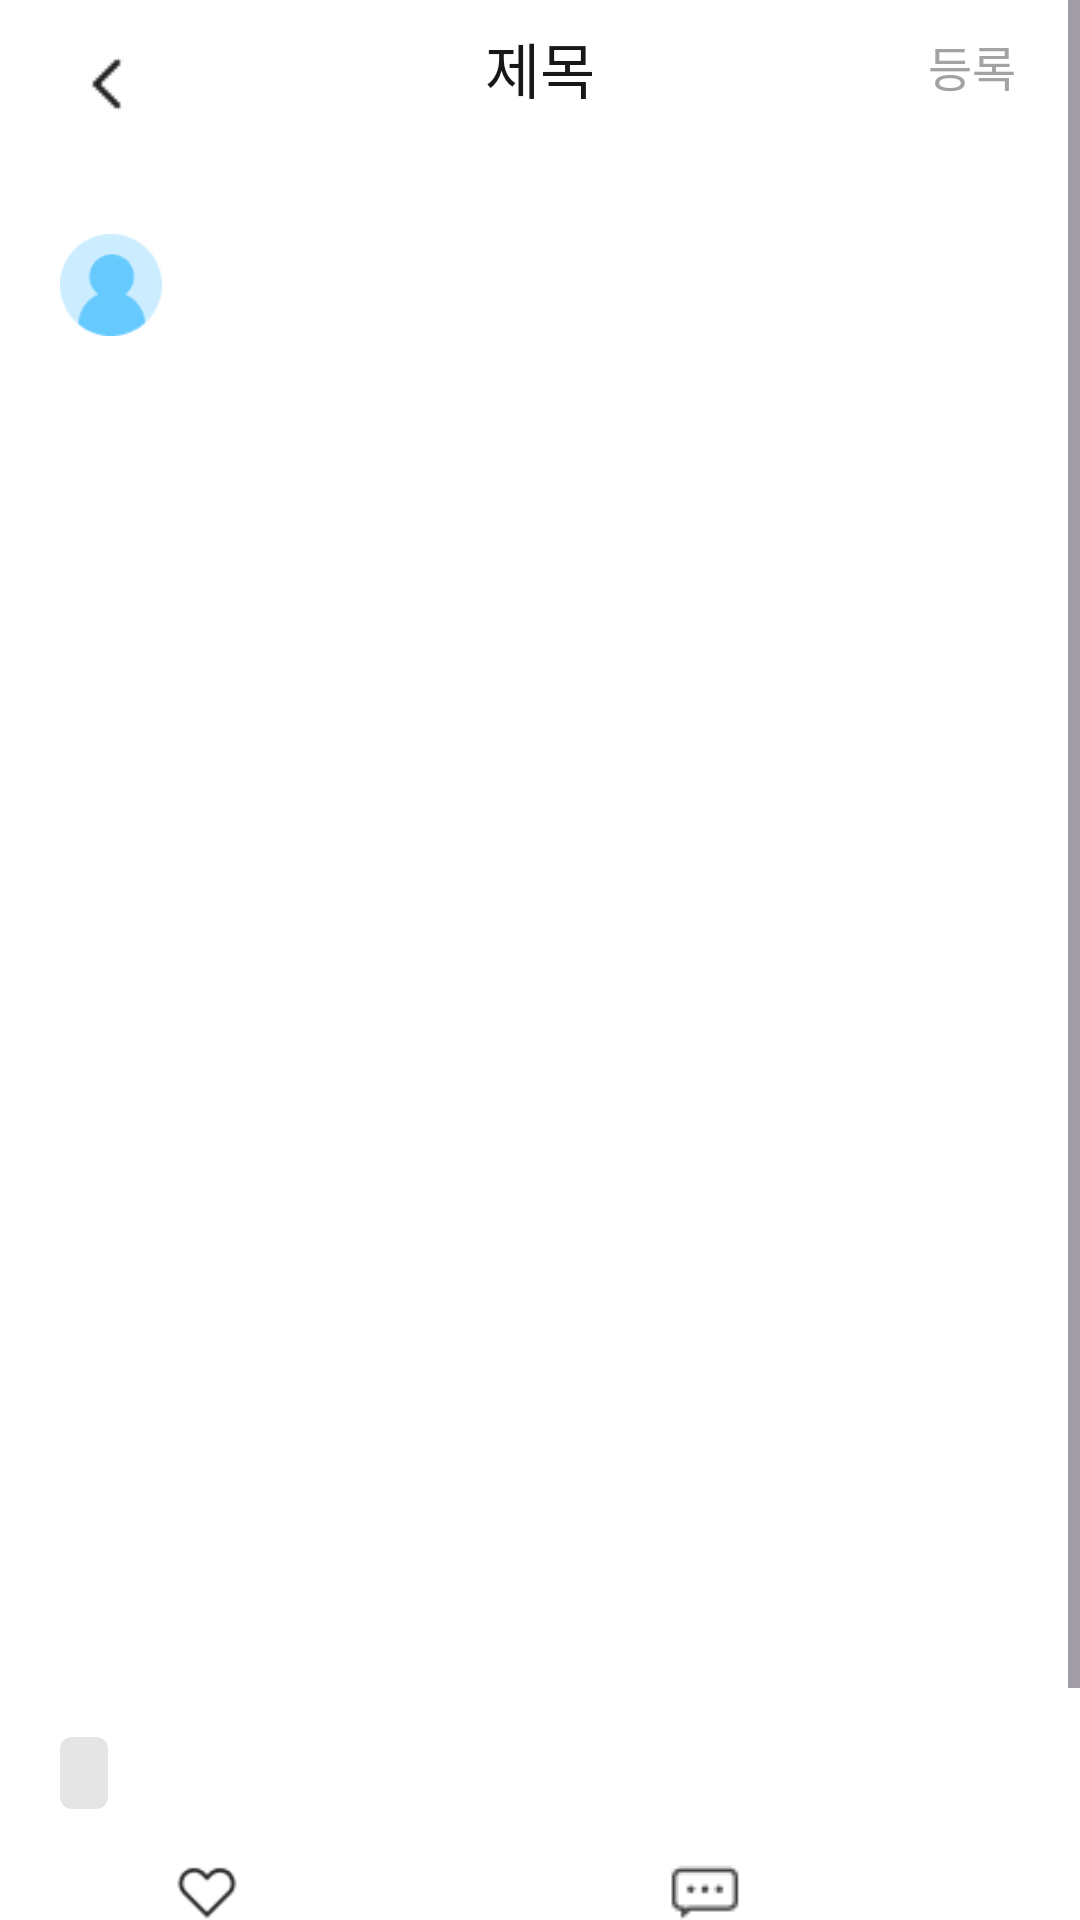

Screen size 1080px x 1920px. Icon name, then its center in pixels as [x,y]:
arrow back: [106,84]
user: [111,285]
